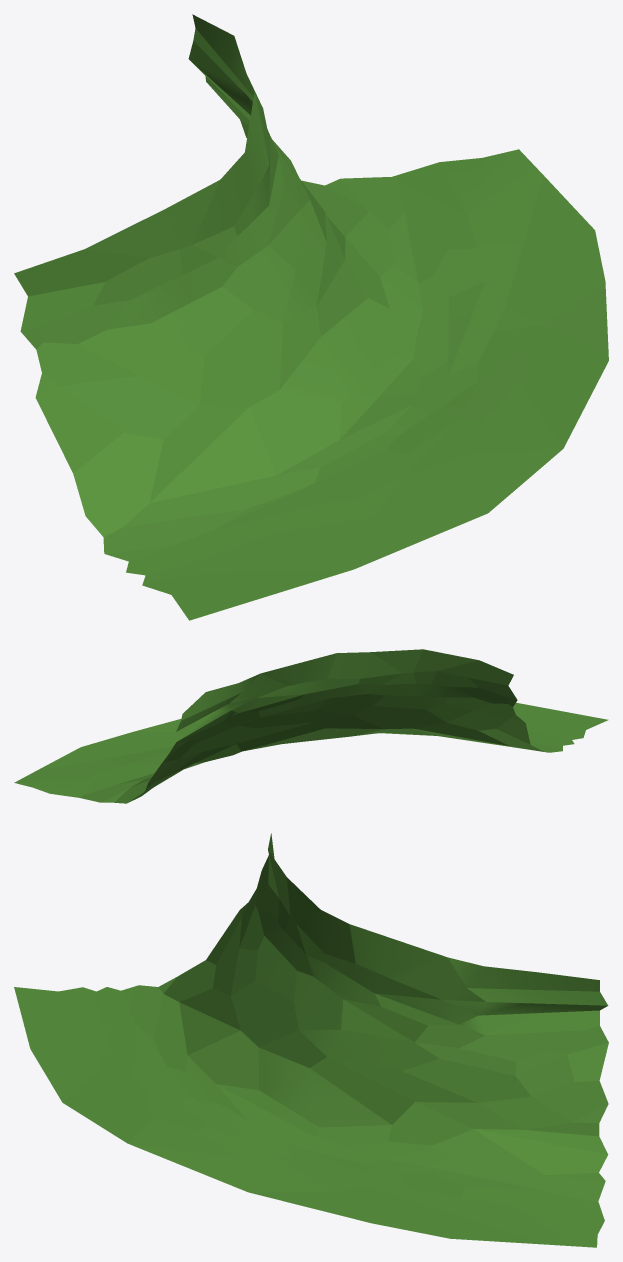
The model's file is grass_path_block_bevel_D.fbx.
3 views of the same model, one above another, from view 1: azimuth 30°, elevation 25°; view 2: azimuth 150°, elevation 25°; view 3: azimuth 270°, elevation 25° (orthographic). The views are drawn at different scales.
Visible parts, largest first — view 1: grass_path_block_bevel_D; view 2: grass_path_block_bevel_D; view 3: grass_path_block_bevel_D.
Boxes of the visible parts, bbox=[...] form: grass_path_block_bevel_D: bbox=[14, 14, 608, 620]; grass_path_block_bevel_D: bbox=[14, 649, 608, 803]; grass_path_block_bevel_D: bbox=[14, 833, 608, 1247].
Size of the model in its own units: 187 by 57.62 by 182.
